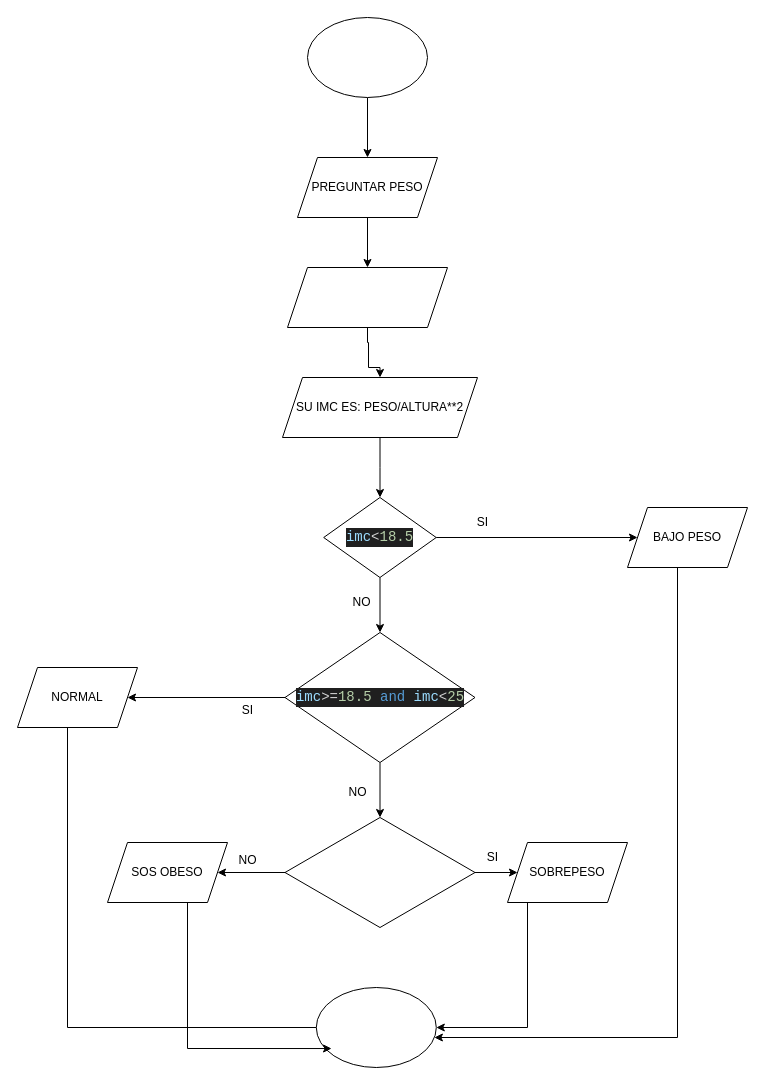
Image size: 765x1085. Some labels were removed from this diagram. Here are the shapes that lost their labels. From the top down, the centre of each, then its label:
At (x=367, y=57): "INICIO".
At (x=367, y=297): "PREGUNTAR ALTURA".
At (x=379, y=872): "imc >= 25 and imc < 30".
At (x=375, y=1027): "FIN".
